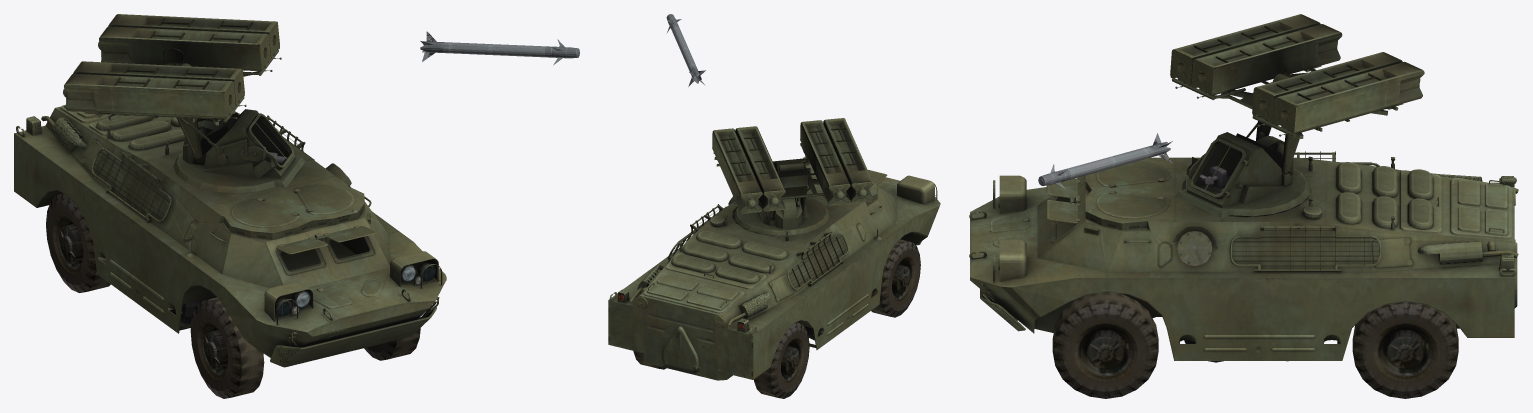
File: 9k31_strela1_sam.glb
The picture shows the model from 3 angles, left to right: view 1: azimuth 30°, elevation 25°; view 2: azimuth 150°, elevation 25°; view 3: azimuth 270°, elevation 25°; orthographic projection. The views are drawn at different scales.
Parts seen in each view (by area): view 1: Strela_0, Launcher_4, Tower_1, Wheel_04_20, Wheel_03_19, 9M37_L04.003_23, Launcher09_9, Wheel_01_11, Tower_To02_3, Strela_D01_13, Strela_D02_17; view 2: Strela_0, Launcher_4, Wheel_03_19, Wheel_04_20, Tower_1, Launcher09_9, 9M37_L04.003_23, Tower_To02_3, Launcher10_5, Launcher12_7, Launcher13_8, Launcher11_6; view 3: Strela_0, Launcher_4, Wheel_01_11, Wheel_02_18, Tower_1, 9M37_L04.003_23, Launcher09_9, Tower_To02_3, Strela_D02_17, Strela_D01_13.
Boxes of the visible parts, x1,y1,x2,y2 form: Strela_0: (14, 104, 446, 367); Launcher_4: (64, 14, 279, 118); Tower_1: (173, 109, 305, 192); Wheel_04_20: (190, 297, 264, 398); Wheel_03_19: (46, 193, 110, 292); 9M37_L04.003_23: (420, 31, 579, 65); Launcher09_9: (84, 47, 281, 125); Wheel_01_11: (364, 317, 420, 360); Tower_To02_3: (173, 62, 205, 158); Strela_D01_13: (275, 236, 327, 254); Strela_D02_17: (323, 225, 376, 242); Strela_0: (608, 156, 940, 380); Launcher_4: (712, 118, 872, 211); Wheel_03_19: (754, 322, 809, 398); Wheel_04_20: (871, 239, 920, 317); Tower_1: (733, 197, 829, 235); Launcher09_9: (713, 143, 846, 203); 9M37_L04.003_23: (666, 14, 705, 86); Tower_To02_3: (770, 163, 809, 218); Launcher10_5: (740, 192, 762, 213); Launcher12_7: (828, 184, 850, 205); Launcher13_8: (763, 190, 785, 211); Launcher11_6: (851, 181, 873, 203); Strela_0: (969, 151, 1518, 362); Launcher_4: (1170, 14, 1424, 133); Wheel_01_11: (1052, 292, 1158, 398); Wheel_02_18: (1352, 302, 1458, 398); Tower_1: (1175, 132, 1310, 217); 9M37_L04.003_23: (1038, 133, 1172, 188); Launcher09_9: (1172, 65, 1402, 138); Tower_To02_3: (1256, 68, 1299, 172); Strela_D02_17: (1046, 200, 1080, 223); Strela_D01_13: (1046, 178, 1080, 198).
Bounding box in the file's own units: 16.65 × 11.81 × 19.48.
Materials: 2 (2 with a texture image).
